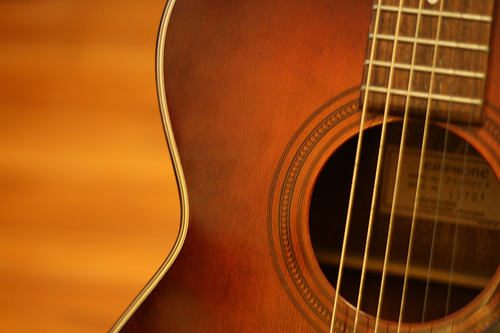guitar: (110, 3, 500, 330)
